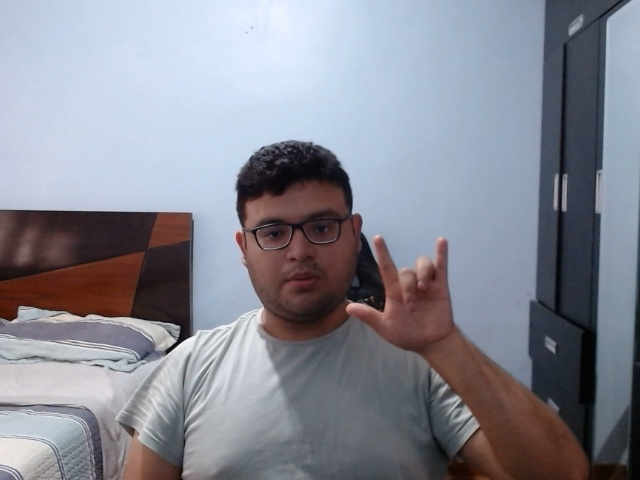I love you: (344, 232, 465, 357)
